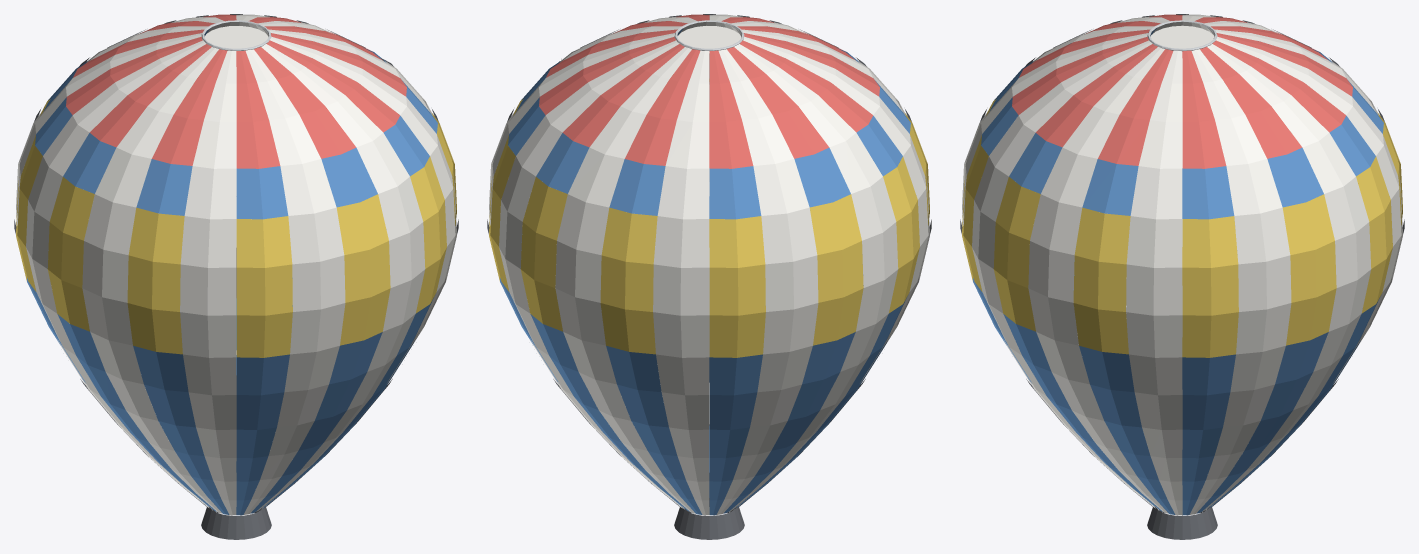
File: hot-air-balloon-festival-balloon-envelope-inflated-blu-ee8115fe__38466.glb
The picture shows the model from 3 angles, left to right: view 1: azimuth 30°, elevation 25°; view 2: azimuth 150°, elevation 25°; view 3: azimuth 270°, elevation 25°; orthographic projection.
Visible parts, largest first — view 1: balloon-envelope-inflated-blue-livery-canvasB, balloon-envelope-inflated-blue-livery-canvasC, balloon-envelope-inflated-blue-livery-canvasA, balloon-envelope-inflated-blue-livery-canvasD, balloon-envelope-inflated-blue-livery-charcoal; view 2: balloon-envelope-inflated-blue-livery-canvasB, balloon-envelope-inflated-blue-livery-canvasC, balloon-envelope-inflated-blue-livery-canvasA, balloon-envelope-inflated-blue-livery-canvasD, balloon-envelope-inflated-blue-livery-charcoal; view 3: balloon-envelope-inflated-blue-livery-canvasB, balloon-envelope-inflated-blue-livery-canvasC, balloon-envelope-inflated-blue-livery-canvasA, balloon-envelope-inflated-blue-livery-canvasD, balloon-envelope-inflated-blue-livery-charcoal.
Boxes of the visible parts, x1,y1,x2,y2 form: balloon-envelope-inflated-blue-livery-canvasB: [16, 14, 456, 515]; balloon-envelope-inflated-blue-livery-canvasC: [16, 99, 456, 357]; balloon-envelope-inflated-blue-livery-canvasA: [27, 29, 437, 515]; balloon-envelope-inflated-blue-livery-canvasD: [66, 14, 406, 168]; balloon-envelope-inflated-blue-livery-charcoal: [14, 14, 458, 539]; balloon-envelope-inflated-blue-livery-canvasB: [489, 14, 929, 515]; balloon-envelope-inflated-blue-livery-canvasC: [489, 79, 929, 357]; balloon-envelope-inflated-blue-livery-canvasA: [500, 29, 910, 515]; balloon-envelope-inflated-blue-livery-canvasD: [539, 14, 879, 168]; balloon-envelope-inflated-blue-livery-charcoal: [487, 14, 931, 539]; balloon-envelope-inflated-blue-livery-canvasB: [962, 14, 1402, 515]; balloon-envelope-inflated-blue-livery-canvasC: [962, 99, 1402, 357]; balloon-envelope-inflated-blue-livery-canvasA: [973, 28, 1383, 515]; balloon-envelope-inflated-blue-livery-canvasD: [1012, 14, 1352, 168]; balloon-envelope-inflated-blue-livery-charcoal: [960, 14, 1404, 539].
Bounding box in the file's own units: 17.21 × 21.24 × 17.21.
